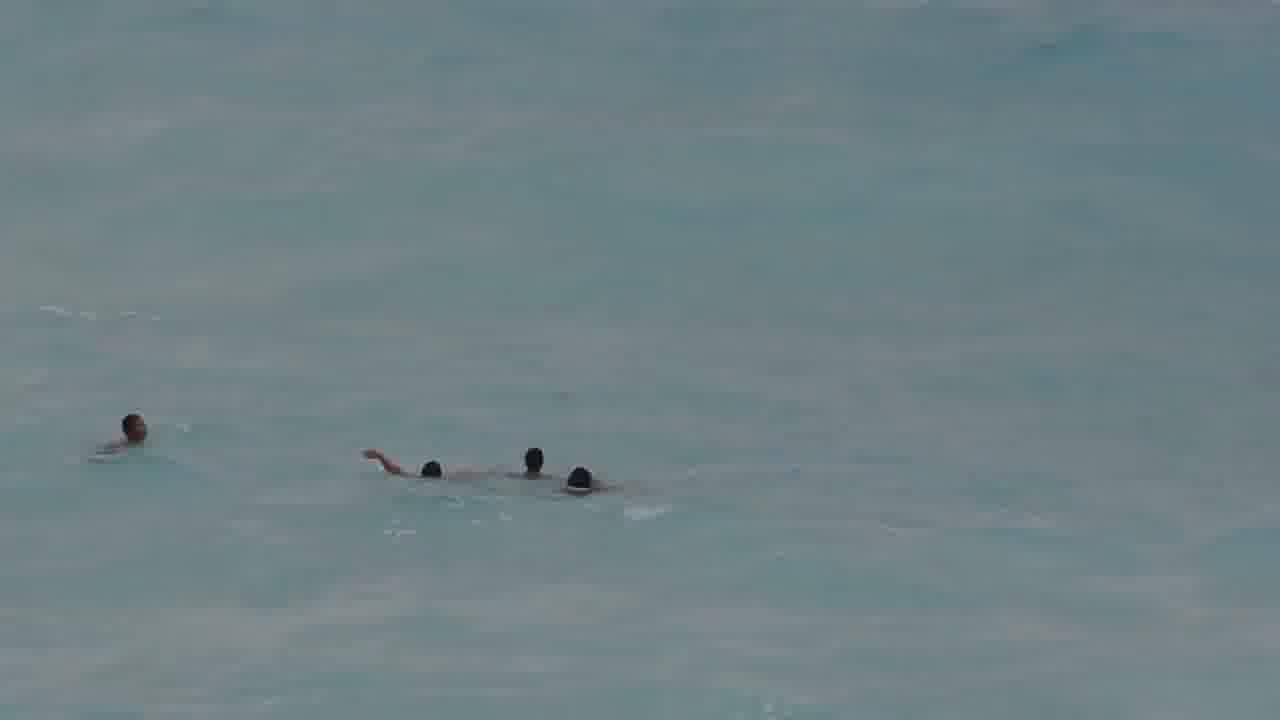human: (354, 443, 463, 488), (92, 405, 159, 459), (554, 463, 621, 502), (491, 447, 554, 480)
